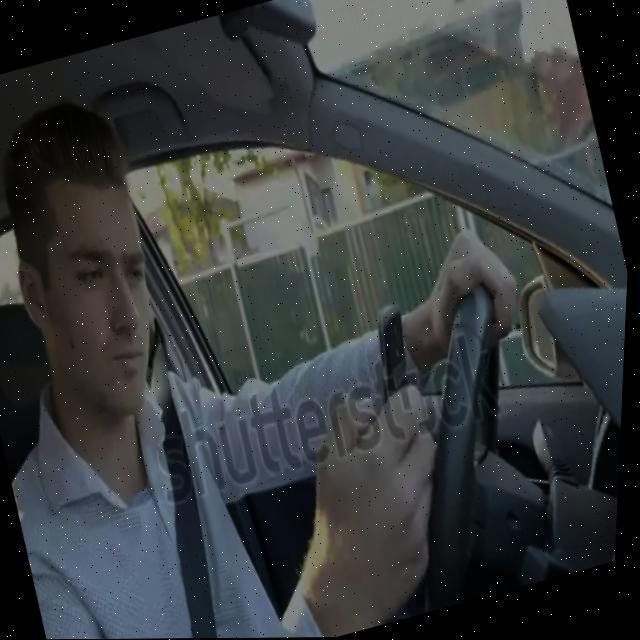PhoneCall: (363, 304, 435, 448)
